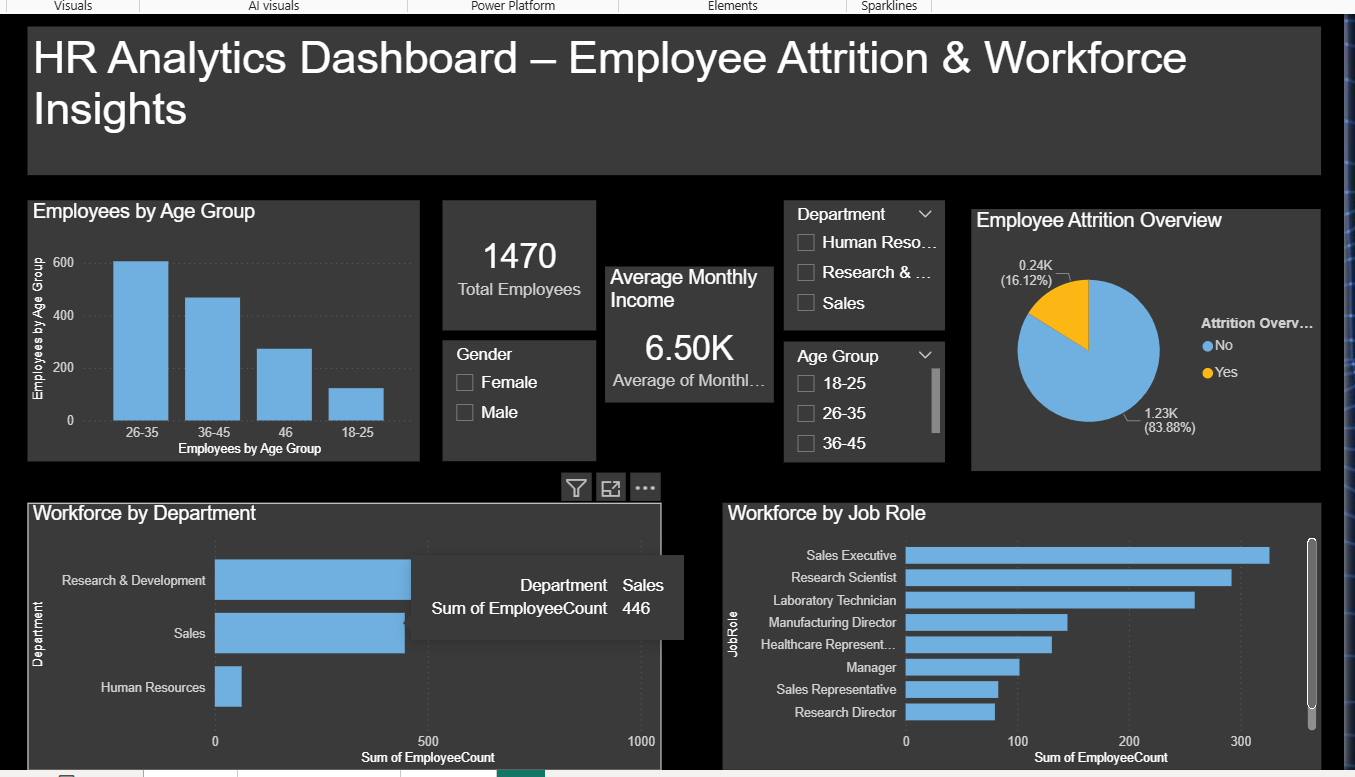

This screenshot's page, from the dashboard's own definition file:
{"tool":"powerbi","page":{"name":"Page 1","canvas":[1280,720],"ordinal":0},"visuals":[{"type":"card","fields":{"Values":["Sum(WA_Fn-UseC_-HR-Employee-Attrition((1)).EmployeeCount)"]},"box":[421.5,177.7,146.5,123.7],"z":0},{"type":"pieChart","title":"Employee Attrition Overview","fields":{"Category":["WA_Fn-UseC_-HR-Employee-Attrition((1)).Attrition"],"Y":["CountNonNull(WA_Fn-UseC_-HR-Employee-Attrition((1)).EmployeeCount)"]},"box":[925.3,185.8,333,249.7],"z":1000},{"type":"clusteredBarChart","title":"Workforce by Department","fields":{"Category":["WA_Fn-UseC_-HR-Employee-Attrition((1)).Department"],"Y":["Sum(WA_Fn-UseC_-HR-Employee-Attrition((1)).EmployeeCount)"]},"box":[26.5,465.7,603.2,254.6],"z":2000},{"type":"clusteredBarChart","title":"Workforce by Job Role","fields":{"Category":["WA_Fn-UseC_-HR-Employee-Attrition((1)).JobRole"],"Y":["Sum(WA_Fn-UseC_-HR-Employee-Attrition((1)).EmployeeCount)"]},"box":[687.7,465.7,570.6,254.6],"z":3000},{"type":"clusteredColumnChart","title":"Employees by Age Group","fields":{"Category":["WA_Fn-UseC_-HR-Employee-Attrition((1)).Age Group"],"Y":["Sum(WA_Fn-UseC_-HR-Employee-Attrition((1)).EmployeeCount)"]},"box":[26.5,177.3,374,248.5],"z":4000},{"type":"slicer","fields":{"Values":["WA_Fn-UseC_-HR-Employee-Attrition((1)).Department"]},"box":[746.9,177.7,153.7,123.7],"z":6000},{"type":"slicer","fields":{"Values":["WA_Fn-UseC_-HR-Employee-Attrition((1)).Gender"]},"box":[421.5,311,146.5,115.3],"z":7000},{"type":"slicer","fields":{"Values":["WA_Fn-UseC_-HR-Employee-Attrition((1)).Age Group"]},"box":[746.9,312.2,153.7,115.3],"z":7001},{"type":"textbox","box":[26.4,12,1232,141.7],"z":7003},{"type":"card","title":"Average Monthly Income","fields":{"Values":["Avg(WA_Fn-UseC_-HR-Employee-Attrition((1)).MonthlyIncome)"]},"box":[576.4,240.2,160.9,129.7],"z":7004}]}

Visuals, with their boxes in screenshot pixels (x1, y1, x2, y2):
card - Sum(WA_Fn-UseC_-HR-Employee-Attrition((1)).EmployeeCount): x1=502 y1=218 x2=650 y2=342
"Employee Attrition Overview" pieChart: x1=1009 y1=226 x2=1345 y2=477
"Workforce by Department" clusteredBarChart: x1=104 y1=508 x2=712 y2=764
"Workforce by Job Role" clusteredBarChart: x1=770 y1=508 x2=1345 y2=764
"Employees by Age Group" clusteredColumnChart: x1=104 y1=217 x2=481 y2=468
slicer - WA_Fn-UseC_-HR-Employee-Attrition((1)).Department: x1=830 y1=218 x2=984 y2=342
slicer - WA_Fn-UseC_-HR-Employee-Attrition((1)).Gender: x1=502 y1=352 x2=650 y2=468
slicer - WA_Fn-UseC_-HR-Employee-Attrition((1)).Age Group: x1=830 y1=353 x2=984 y2=469
textbox: x1=104 y1=51 x2=1345 y2=194
"Average Monthly Income" card: x1=658 y1=281 x2=820 y2=411
